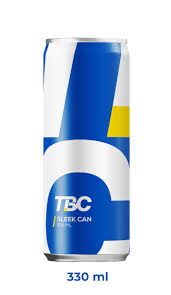can: (40, 36, 133, 265)
